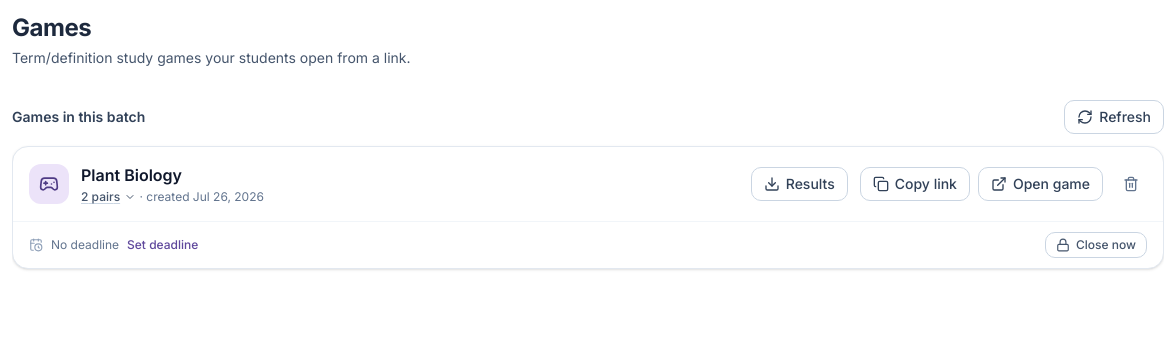
Scenario: Games page › keeps the pairs hidden until asked, then reveals them
The image size is (1176, 360).
expect the heading "Plant Biology" is shown: met, box left=81, top=163, right=182, bottom=187
expect the text "Photosynthesis" is not shown: met
Click the button "2 pairs". click: (109, 197)
box: left=81, top=189, right=136, bottom=205
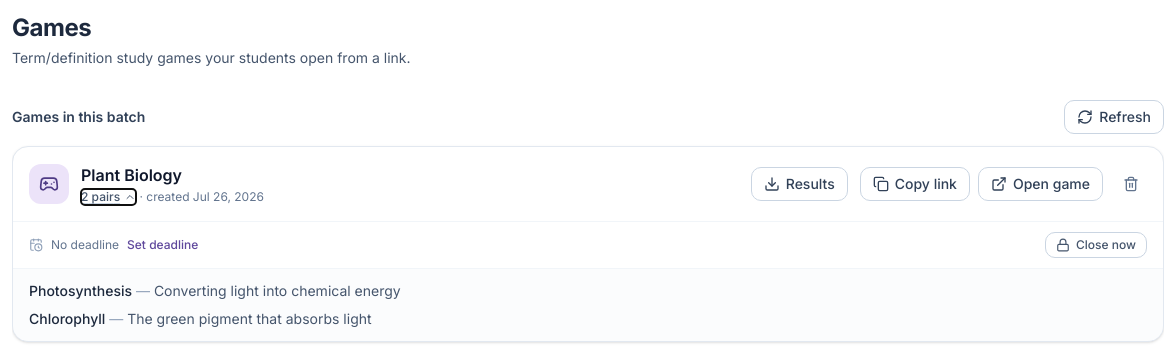
expect the text "Photosynthesis" is shown: met, box left=29, top=282, right=132, bottom=299
expect the text "Converting light into chemical energy" is shown: met, box left=154, top=282, right=401, bottom=299
